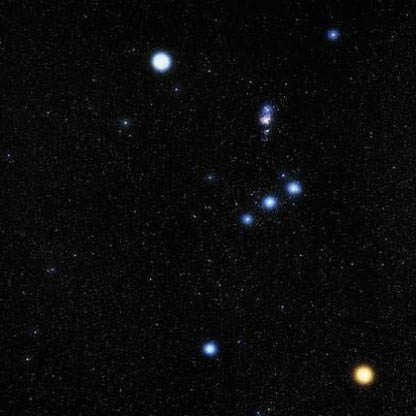Orion: (137, 41, 179, 79), (348, 346, 381, 391), (325, 21, 362, 52), (232, 201, 257, 242), (190, 333, 220, 363), (286, 171, 308, 209), (263, 183, 279, 224)
